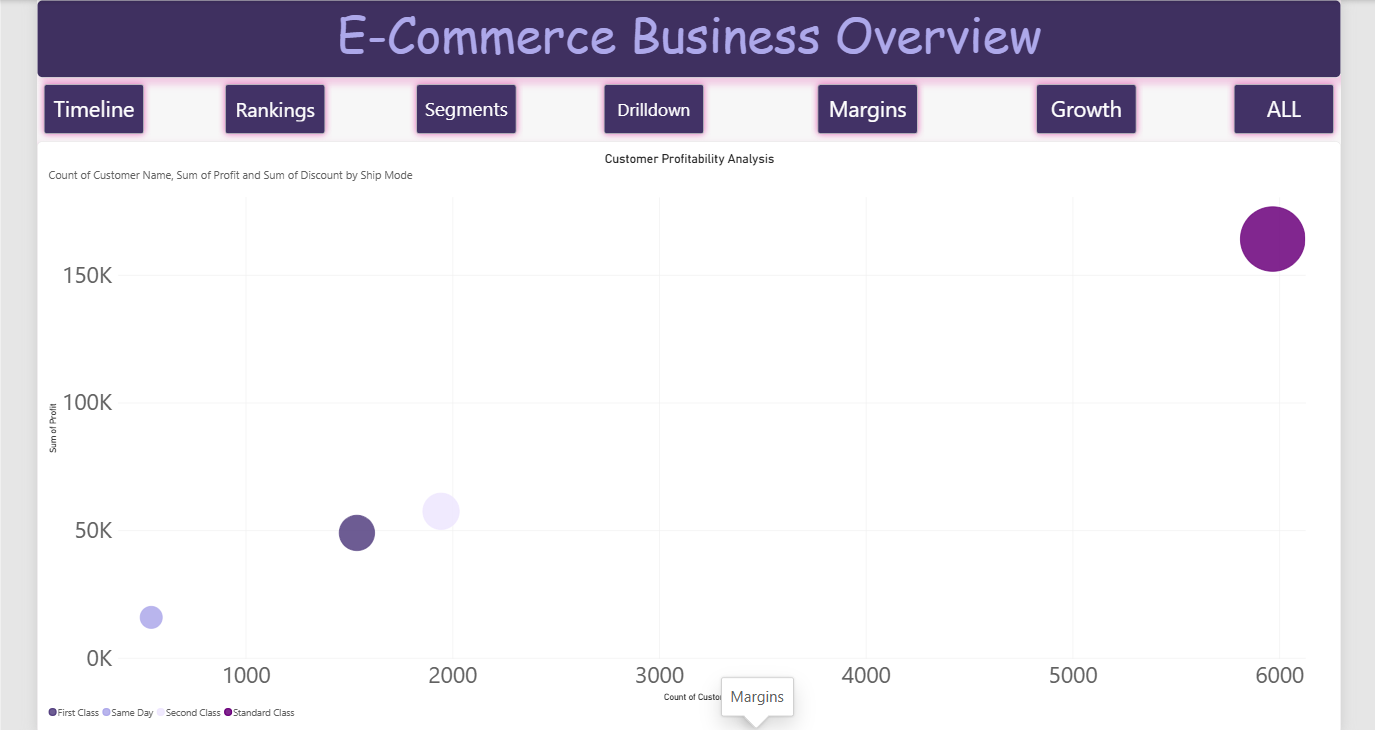

What the dashboard file says about the page in this screenshot:
{"tool":"powerbi","page":{"name":"Margins","canvas":[1920,1080],"ordinal":5},"visuals":[{"type":"textbox","title":"E-Commerce Business Overview","box":[0,0,1919.6,114.1],"z":0},{"type":"actionButton","box":[0,113.6,167.6,93.1],"z":1000},{"type":"actionButton","box":[266.3,113.6,167.6,93.1],"z":2000},{"type":"actionButton","box":[549.3,113.6,167.6,93.1],"z":3000},{"type":"actionButton","box":[824.8,113.6,167.6,93.1],"z":4000},{"type":"actionButton","box":[1139.5,113.6,167.6,93.1],"z":5000},{"type":"actionButton","box":[1461.6,113.6,167.6,93.1],"z":6000},{"type":"actionButton","box":[1752.1,113.6,167.6,93.1],"z":7000},{"type":"scatterChart","title":"Customer Profitability Analysis","fields":{"Series":["Orders.Ship Mode"],"Size":["Sum(Orders.Discount)"],"X":["Orders.Customer Name"],"Y":["Sum(Orders.Profit)"]},"box":[0,208,1919.6,872.4],"z":8000}]}

Visuals, with their boxes on the page's 1920x1080 design canvas (x1, y1, x2, y2). These are canvas units, not pixel positions in the 1375x730 screenshot, which may show the page scaled, cropped or inside an application window:
"E-Commerce Business Overview" textbox: [x1=0, y1=0, x2=1920, y2=114]
actionButton: [x1=0, y1=114, x2=168, y2=207]
actionButton: [x1=266, y1=114, x2=434, y2=207]
actionButton: [x1=549, y1=114, x2=717, y2=207]
actionButton: [x1=825, y1=114, x2=992, y2=207]
actionButton: [x1=1140, y1=114, x2=1307, y2=207]
actionButton: [x1=1462, y1=114, x2=1629, y2=207]
actionButton: [x1=1752, y1=114, x2=1920, y2=207]
"Customer Profitability Analysis" scatterChart: [x1=0, y1=208, x2=1920, y2=1080]
